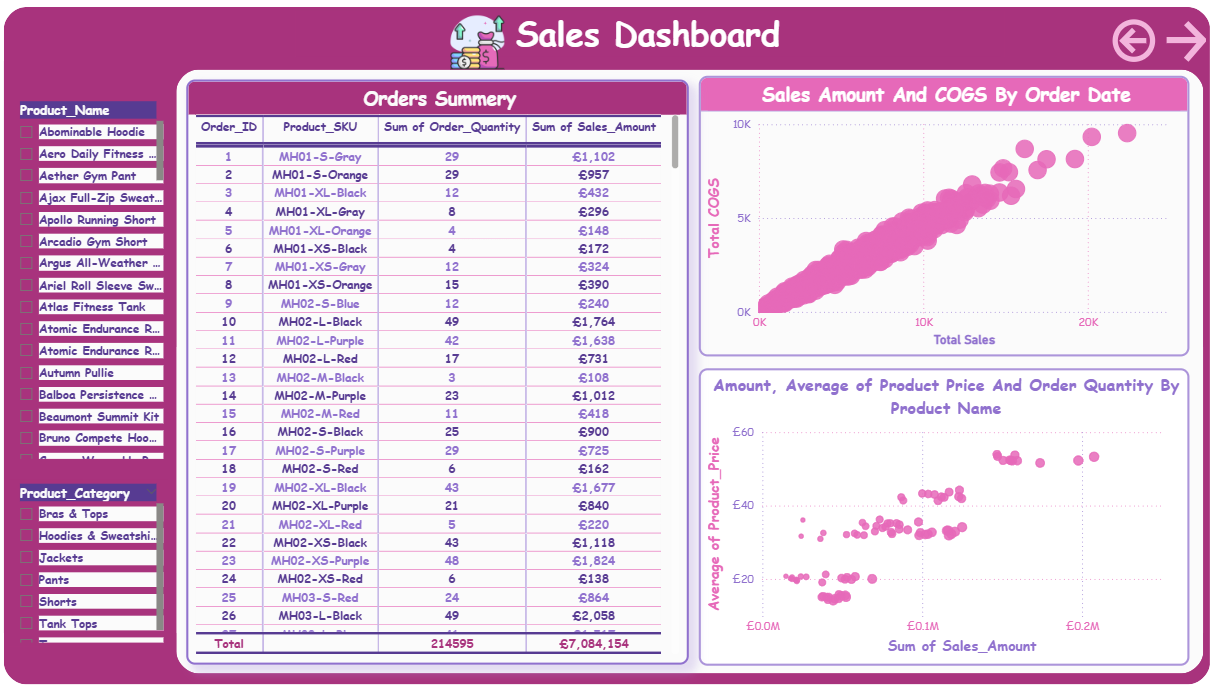

The page's visual inventory and layout, read from the dashboard file:
{"tool":"powerbi","page":{"name":"Order Analysis 2","canvas":[1400,800],"ordinal":5},"visuals":[{"type":"shape","box":[10.6,12.1,1378.8,774.2],"z":0},{"type":"shape","box":[206.5,82.9,1173.9,690.2],"z":1000},{"type":"textbox","title":"Sales Dashboard","box":[337.9,15.2,815.2,53],"z":2000},{"type":"scatterChart","title":"Sales Amount And COGS By Order Date","fields":{"X":["Calculations.Total Sales"],"Category":["Orders.Order_Date"],"Y":["Calculations.Total COGS"]},"box":[804.9,90.5,561.1,320.7],"z":3000},{"type":"scatterChart","title":"Amount, Average of Product Price And Order Quantity  By Product Name","fields":{"Size":["Sum(Orders. Order_Quantity )"],"Y":["Avg(Orders.Product_Price)"],"Category":["Unique Products.Product_Name"],"X":["Sum(Orders.Sales_Amount)"]},"box":[804.9,424.7,561.1,339.7],"z":4000},{"type":"slicer","fields":{"Values":["Unique Products.Product_Name"]},"box":[15.7,114.3,181.4,418.6],"z":5000},{"type":"slicer","fields":{"Values":["Unique Products.Product_Category"]},"box":[15.7,551.4,181.4,191.4],"z":6000},{"type":"tableEx","title":"Orders Summery","fields":{"Values":["Orders.Order_ID","Orders.Product_SKU","Sum(Orders. Order_Quantity )","Sum(Orders.Sales_Amount)"]},"box":[218.8,93.8,574.7,668.5],"z":7000},{"type":"image","box":[515.7,11.4,71.4,80],"z":11000},{"type":"actionButton","box":[1224.3,8.6,118.6,82.9],"z":12000},{"type":"actionButton","box":[1320,22.9,80,55.7],"z":13000}]}

Visuals, with their boxes in screenshot pixels (x1, y1, x2, y2), scaled from the page's 1400x800 canvas onto the 1215x690 screenshot:
shape: <region>9, 10, 1206, 678</region>
shape: <region>179, 72, 1198, 667</region>
"Sales Dashboard" textbox: <region>293, 13, 1001, 59</region>
"Sales Amount And COGS By Order Date" scatterChart: <region>699, 78, 1185, 355</region>
"Amount, Average of Product Price And Order Quantity  By Product Name" scatterChart: <region>699, 366, 1185, 659</region>
slicer - Unique Products.Product_Name: <region>14, 99, 171, 460</region>
slicer - Unique Products.Product_Category: <region>14, 476, 171, 641</region>
"Orders Summery" tableEx: <region>190, 81, 689, 657</region>
image: <region>448, 10, 510, 79</region>
actionButton: <region>1063, 7, 1165, 79</region>
actionButton: <region>1146, 20, 1214, 68</region>
